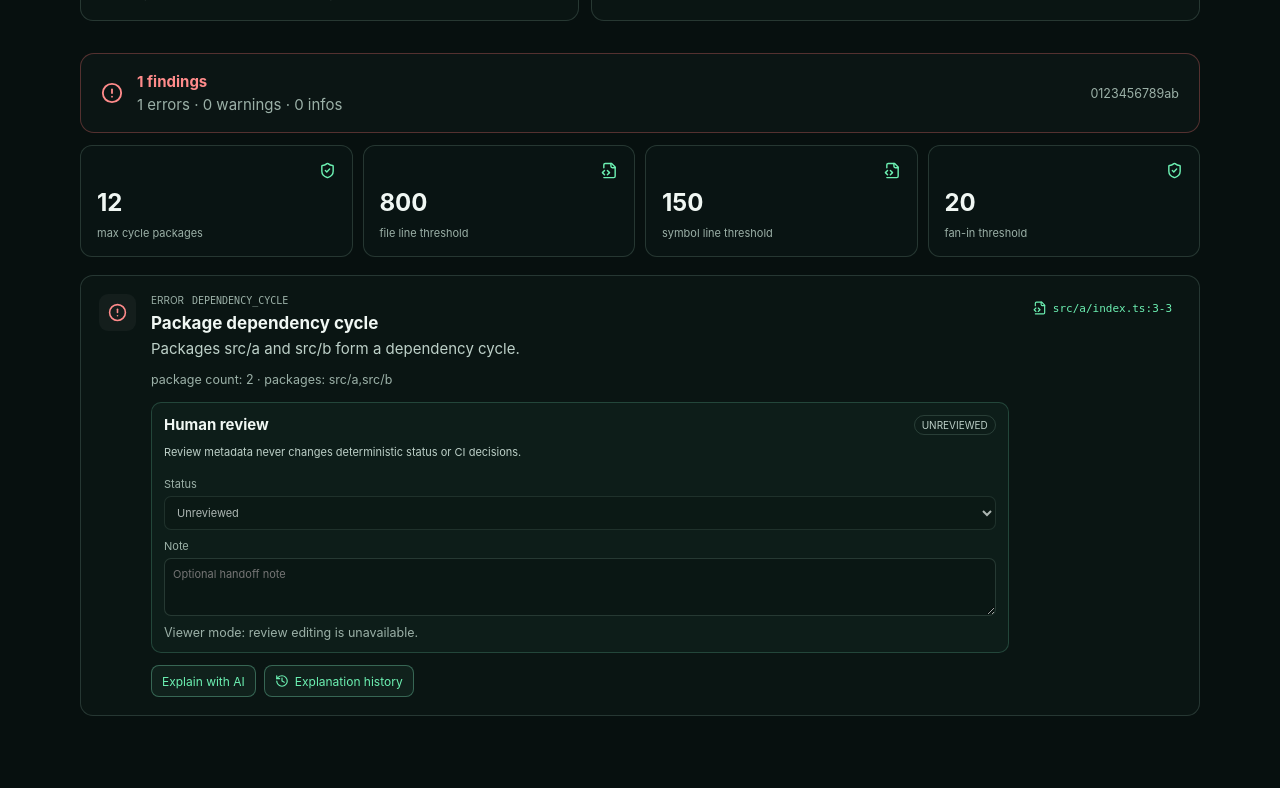
GuardrailsPanel › shows the API request error and preserves the deterministic Finding
(page scrolled)
What coordinates should you click on to do the following:
click the button with aria-label "Explain Package dependency cycle"
I would click on:
 (203, 681)
Its box is [151, 665, 256, 697].
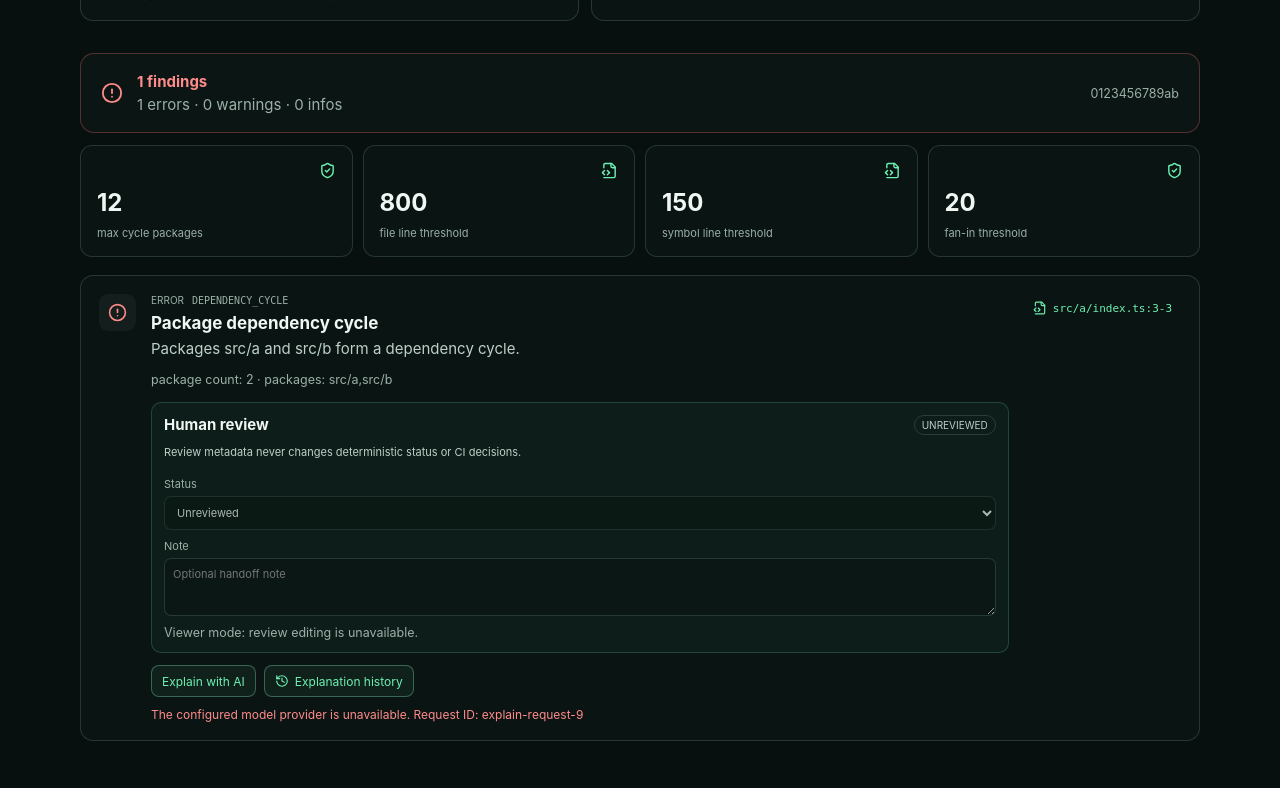
Expected: the heading "Package dependency cycle" is shown, [151, 313, 378, 333]
Expected: the text "The configured model provider is unavailable. Request ID: explain-request-9" is shown, [151, 707, 583, 722]
